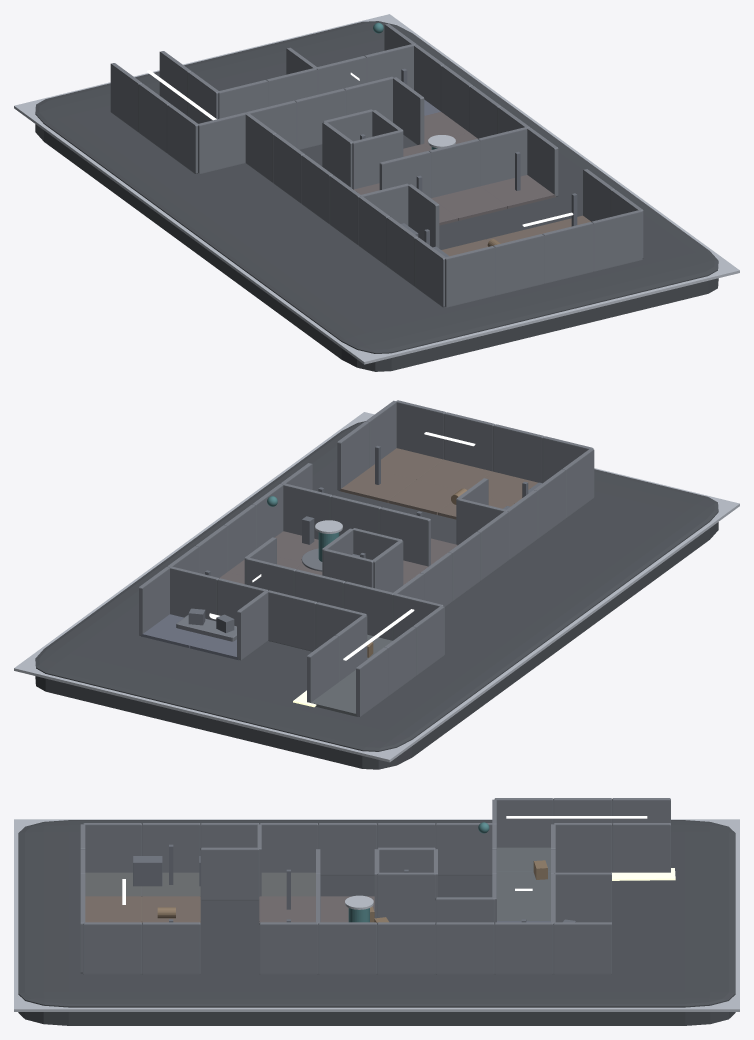
The picture shows the model from 3 angles, top to bottom: view 1: azimuth 30°, elevation 25°; view 2: azimuth 150°, elevation 25°; view 3: azimuth 270°, elevation 25°; orthographic projection. The views are drawn at different scales.
Parts seen in each view (by area): view 1: Foundation, BoundaryRing, Wall_26, Wall_28, Wall_30, Wall_11, Wall_04.001, Wall_43, Wall_13, Wall_18, Wall_02, Wall_17 (+32 smaller); view 2: Foundation, BoundaryRing, Wall_19, Wall_28, Wall_30, Wall_11, Wall_40, Wall_24, Wall_04, Wall_13, Wall_32, Wall_10 (+37 smaller); view 3: Foundation, BoundaryRing, Wall_38, Wall_08, Wall_14, Wall_34, Wall_29, Wall_12, Wall_25, Wall_36, Wall_42, Wall_23 (+28 smaller).
Boxes of the visible parts, x1,y1,x2,y2 form: Foundation: (35, 21, 718, 371); BoundaryRing: (14, 14, 739, 364); Wall_26: (445, 246, 495, 307); Wall_28: (493, 234, 544, 295); Wall_30: (542, 222, 593, 283); Wall_11: (591, 210, 642, 271); Wall_04.001: (198, 112, 246, 174); Wall_43: (429, 139, 479, 198); Wall_13: (478, 127, 527, 186); Wall_18: (295, 88, 345, 149); Wall_02: (352, 130, 402, 189); Wall_17: (167, 104, 198, 173); Foundation: (35, 421, 718, 769); BoundaryRing: (14, 412, 739, 762); Wall_19: (267, 590, 317, 651); Wall_28: (493, 424, 543, 482); Wall_30: (444, 412, 494, 471); Wall_11: (396, 400, 445, 459); Wall_40: (379, 507, 430, 566); Wall_24: (169, 566, 218, 621); Wall_04: (343, 581, 393, 640); Wall_13: (283, 483, 332, 539); Wall_32: (356, 647, 388, 716); Wall_10: (237, 591, 268, 660); Foundation: (18, 820, 735, 1025); BoundaryRing: (14, 819, 739, 1011); Wall_38: (200, 847, 259, 900); Wall_08: (435, 922, 494, 974); Wall_14: (259, 922, 318, 974); Wall_34: (494, 922, 553, 974); Wall_29: (377, 922, 435, 974); Wall_12: (83, 922, 141, 974); Wall_25: (553, 922, 611, 974); Wall_36: (318, 922, 376, 974); Wall_42: (142, 922, 200, 974); Wall_23: (318, 823, 376, 875).
Size of the model in its own units: 3060 by 1038 by 4940.
